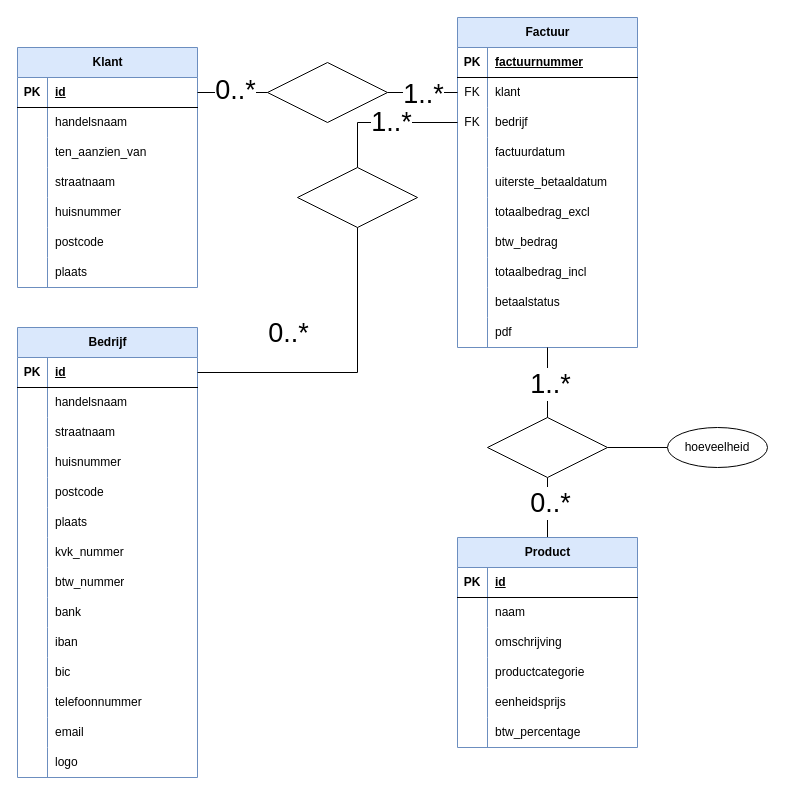
The diagram is 785 pixels wide and 795 high, and some of its shapes have lost their labels. The centre of each missing label's shape, as x and y in pixels:
BevatProduct: pixel 547 447
is_aanbieder: pixel 357 197
is_klant: pixel 327 92
